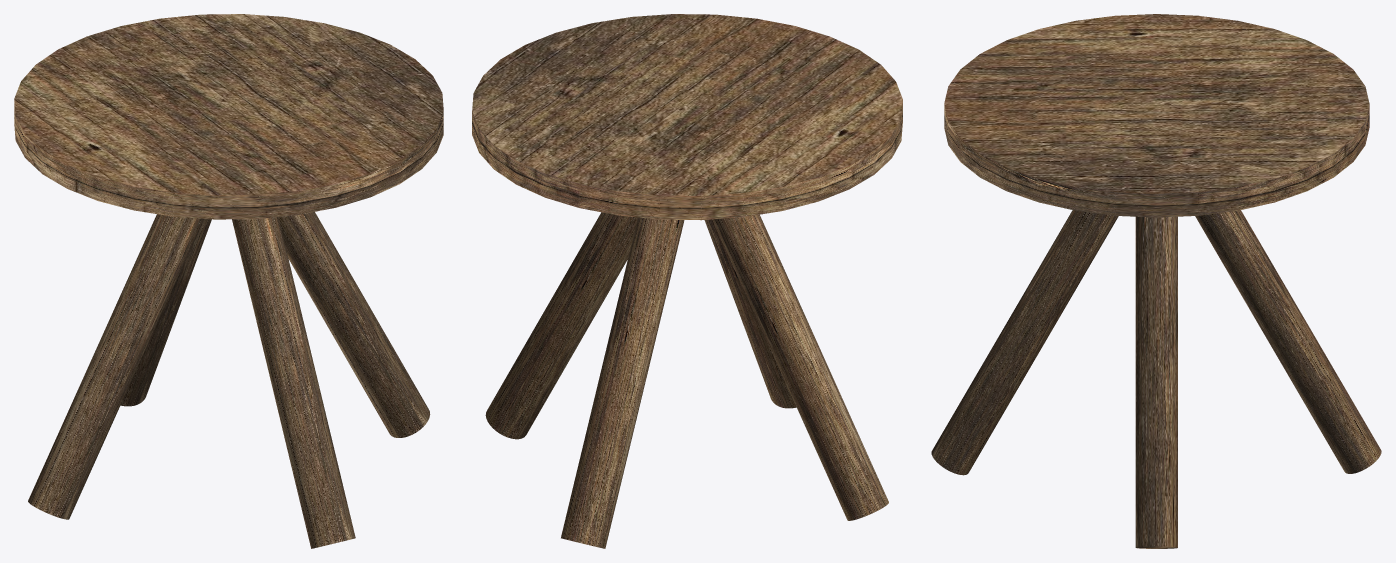
The model's file is tafeltje.glb.
The picture shows the model from 3 angles, left to right: view 1: azimuth 30°, elevation 25°; view 2: azimuth 150°, elevation 25°; view 3: azimuth 270°, elevation 25°; orthographic projection.
Visible parts, largest first — view 1: Cylinder.002, Cylinder.003, Cylinder, Cylinder.004, Cylinder.001; view 2: Cylinder.002, Cylinder.001, Cylinder, Cylinder.004, Cylinder.003; view 3: Cylinder.002, Cylinder.004, Cylinder.003, Cylinder.001.
Boxes of the visible parts, left/top/right/bottom form: Cylinder.002: left=14, top=14, right=443, bottom=219; Cylinder.003: left=232, top=217, right=355, bottom=548; Cylinder: left=28, top=214, right=203, bottom=519; Cylinder.004: left=278, top=212, right=430, bottom=437; Cylinder.001: left=120, top=219, right=211, bottom=406; Cylinder.002: left=472, top=14, right=902, bottom=220; Cylinder.001: left=561, top=217, right=684, bottom=548; Cylinder: left=712, top=214, right=888, bottom=520; Cylinder.004: left=485, top=212, right=637, bottom=439; Cylinder.003: left=704, top=219, right=796, bottom=408; Cylinder.002: left=944, top=14, right=1369, bottom=217; Cylinder.004: left=1135, top=216, right=1177, bottom=548; Cylinder.003: left=931, top=210, right=1118, bottom=475; Cylinder.001: left=1195, top=210, right=1381, bottom=473.
Bounding box in the file's own units: 2.13 × 1.9 × 2.12.
Materials: 3 (3 with a texture image).
